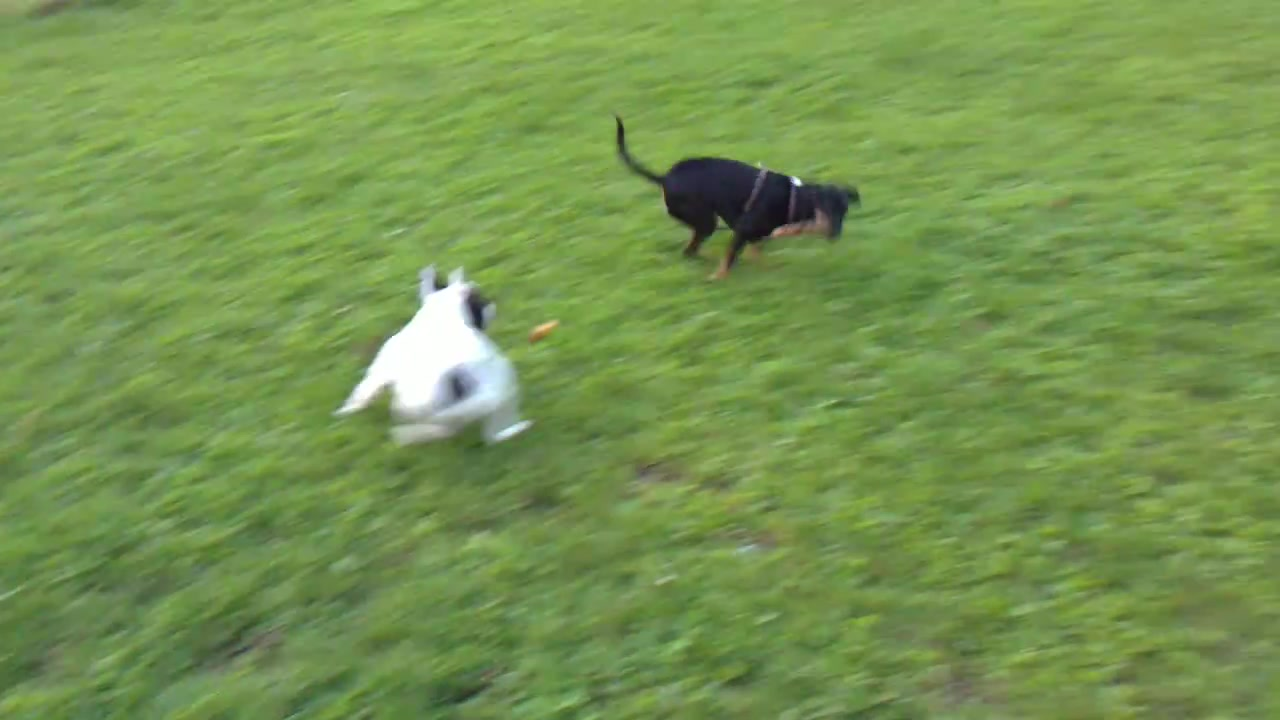dog: (611, 111, 863, 283), (329, 264, 538, 458)
